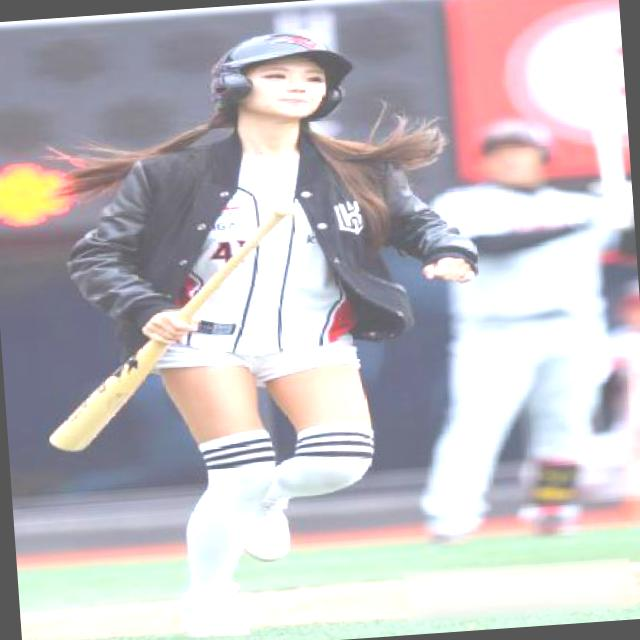Person: (50, 13, 468, 640)
